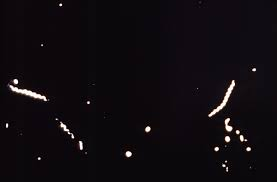sphyillis: (207, 78, 234, 116), (6, 85, 50, 103), (53, 118, 74, 142)
